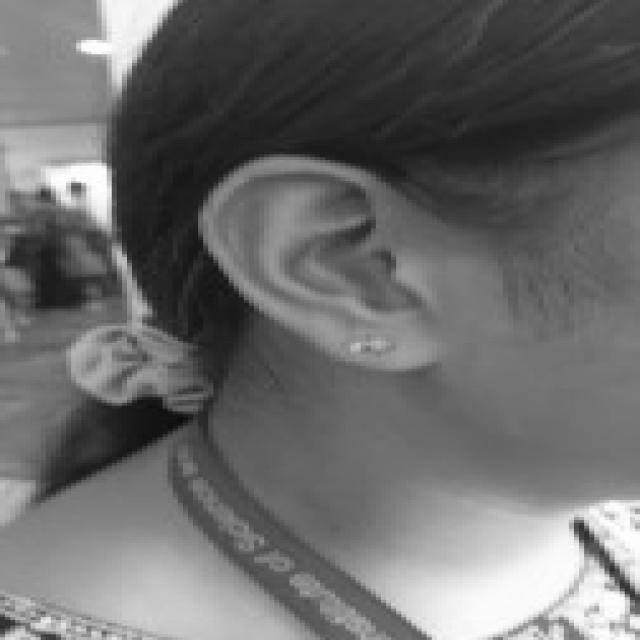ear: (198, 157, 427, 366)
